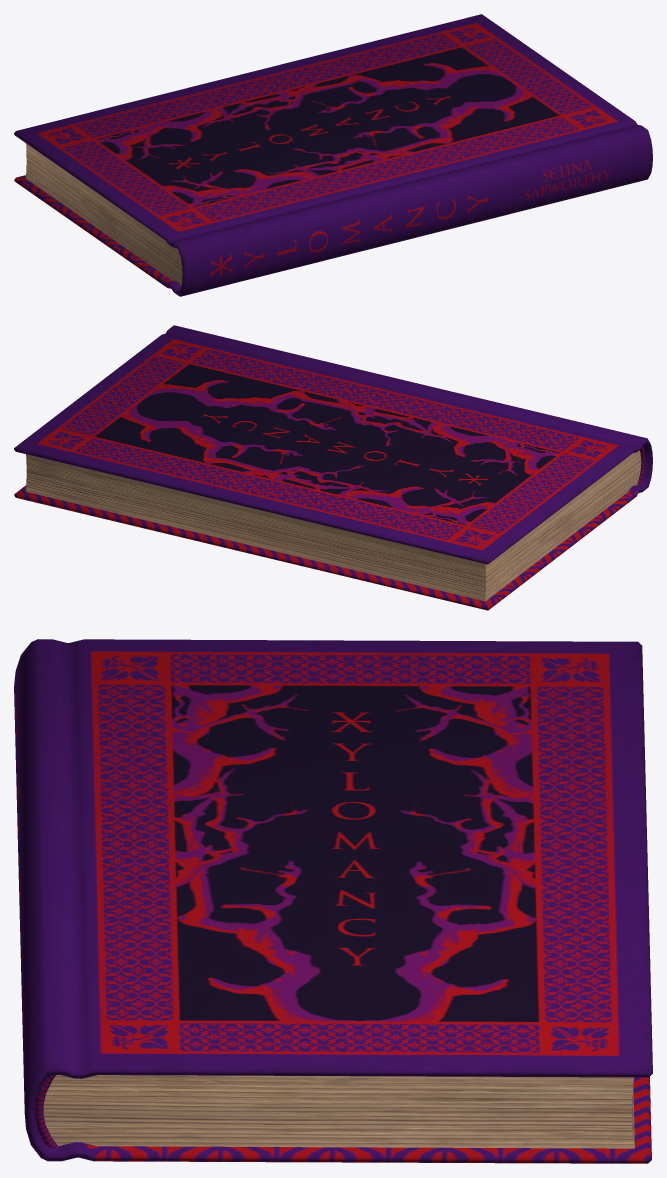
The model's file is book.fbx.
3 renders of one model, top to bottom at view 1: azimuth 30°, elevation 25°; view 2: azimuth 150°, elevation 25°; view 3: azimuth 270°, elevation 25°, orthographic. The views are drawn at different scales.
Parts seen in each view (by area): view 1: Xylomancy; view 2: Xylomancy; view 3: Xylomancy.
Part boxes in pixels (x1,y1,x2,y2): Xylomancy: (14, 14, 652, 296); Xylomancy: (14, 325, 652, 610); Xylomancy: (14, 639, 652, 1163).
Bounding box in the file's own units: 45.78 × 5.03 × 28.54.
1 material, 1 textured.
